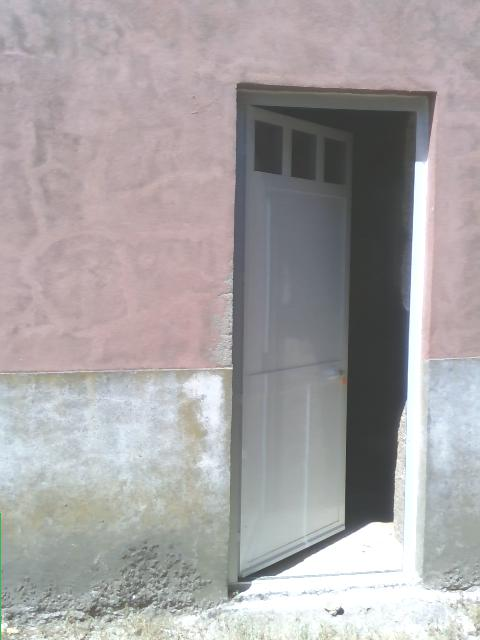semi_door: (225, 81, 433, 593)
